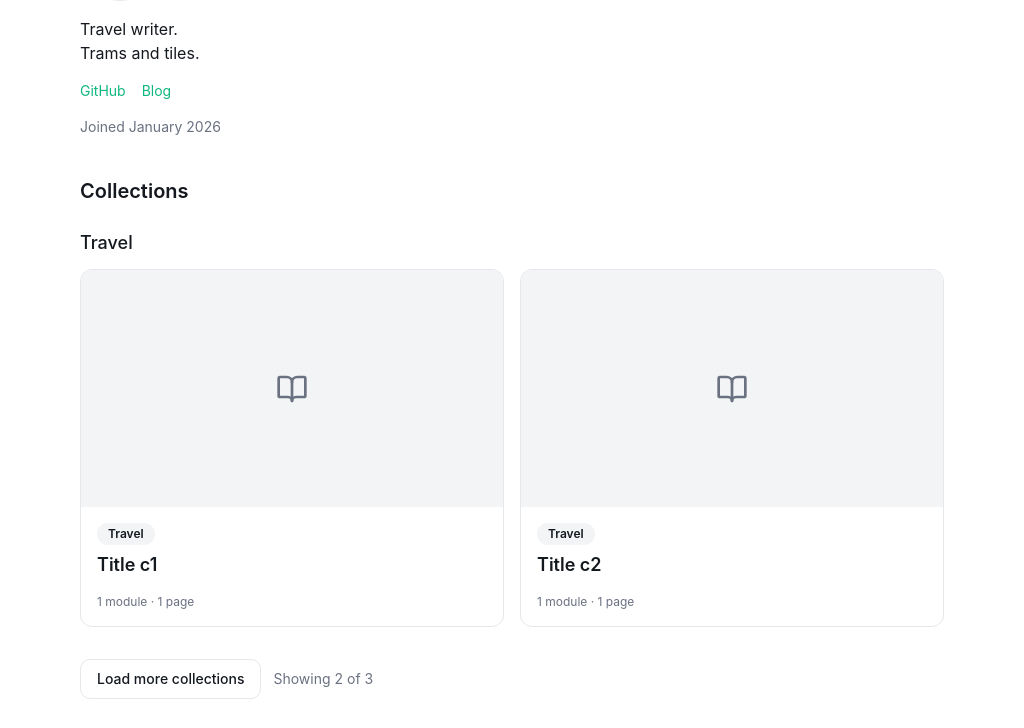
Scenario: CreatorProfile pagination › a next-page error leaves the loaded collections visible and offers a retry
(page scrolled)
Step 1. Click the button "Load more collections" → (171, 679), box [80,659,262,699]
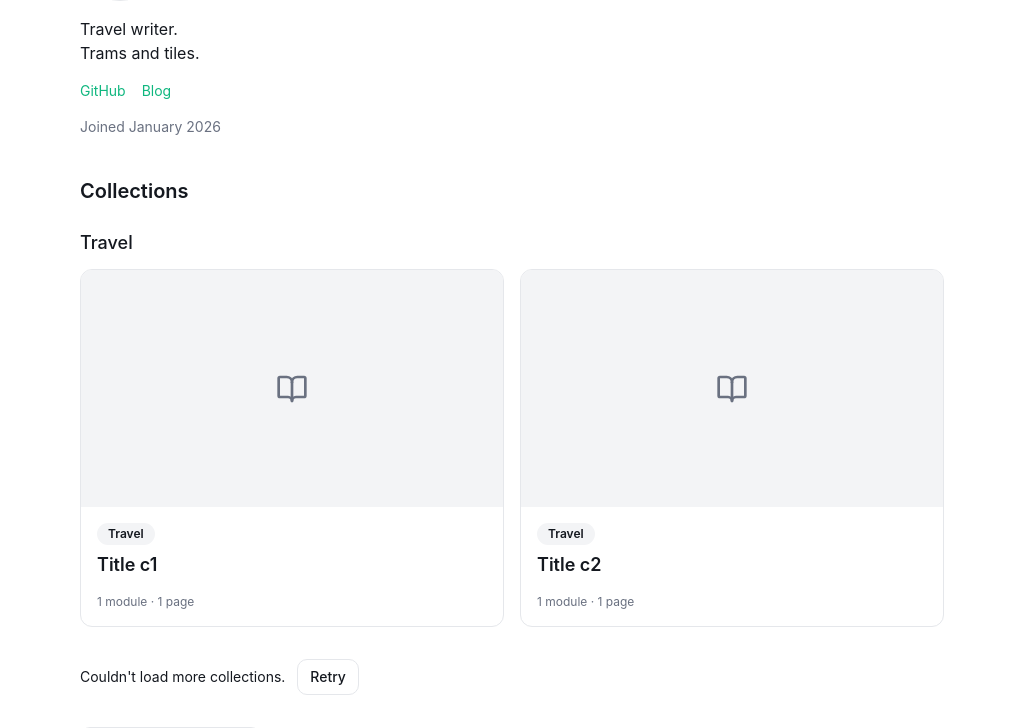
Now the message shows "Couldn't load more collections", box [80,668,285,685]
Step 2. Click the button "Retry" → (328, 677), box [297,659,359,695]
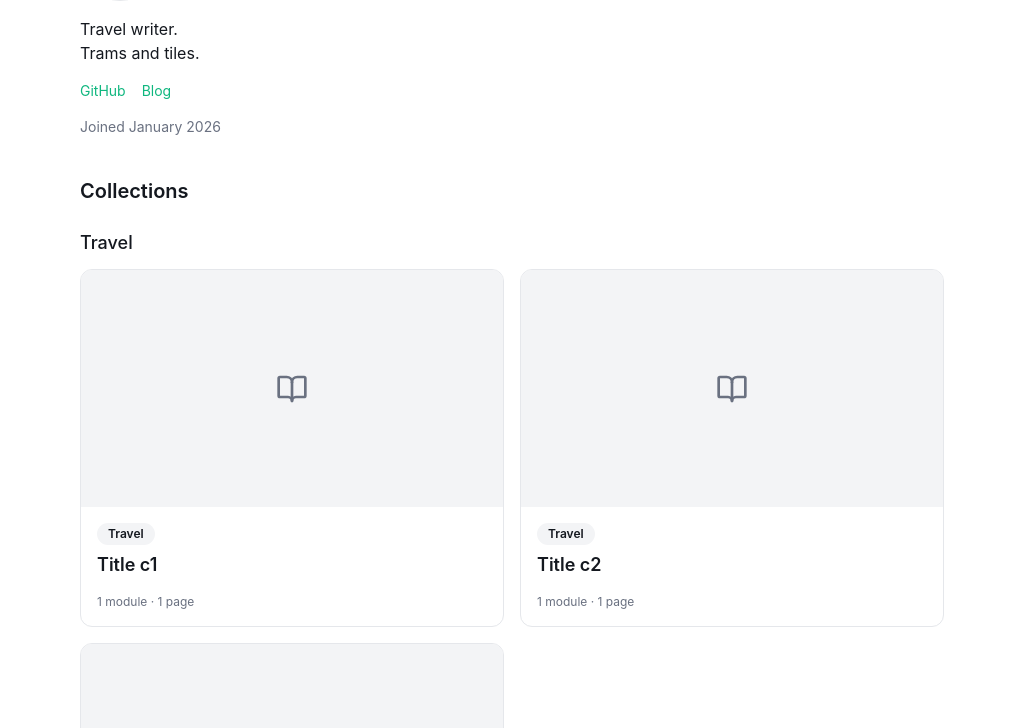
Now the message "Couldn't load more collections. Retry" is gone
